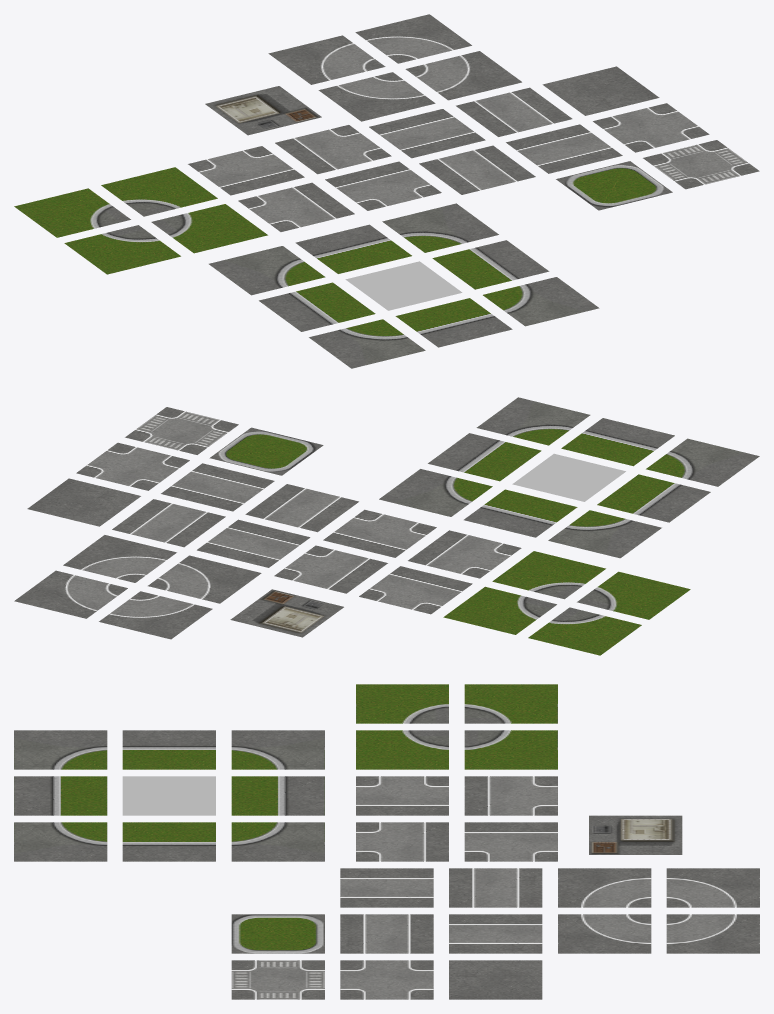
The model's file is CityRoads_Modular_PiecesFBX.fbx.
3 renders of one model, top to bottom at view 1: azimuth 30°, elevation 25°; view 2: azimuth 150°, elevation 25°; view 3: azimuth 270°, elevation 25°, orthographic. The views are drawn at different scales.
Parts seen in each view (by area): view 1: CityTilePiece2, CityTilePiece49, CityTilePiece50, CityTilePiece145, CityTilePiece147, CityTilePiece148, CityTilePiece14, CityTilePiece31, CityTilePiece48, CityTilePiece51, CityTilePiece52, CityTilePiece53 (+18 smaller); view 2: CityTilePiece19, CityTilePiece30, CityTilePiece148, CityTilePiece8, CityTilePiece9, CityTilePiece14, CityTilePiece31, CityTilePiece49, CityTilePiece53, CityTilePiece141, CityTilePiece147, CityTilePiece149 (+18 smaller); view 3: CityTilePiece2, CityTilePiece3, CityTilePiece5, CityTilePiece8, CityTilePiece9, CityTilePiece11, CityTilePiece12, CityTilePiece14, CityTilePiece17, CityTilePiece19, CityTilePiece30, CityTilePiece31 (+18 smaller).
Part boxes in pixels (x1,y1,x2,y2): CityTilePiece2: (432,240,549,289); CityTilePiece49: (395,298,512,347); CityTilePiece50: (295,224,411,273); CityTilePiece145: (419,145,535,194); CityTilePiece147: (325,161,441,210); CityTilePiece148: (238,182,354,231); CityTilePiece14: (275,125,391,174); CityTilePiece31: (556,161,672,210); CityTilePiece48: (345,261,462,310); CityTilePiece51: (259,282,375,331); CityTilePiece52: (209,246,325,295); CityTilePiece53: (309,319,425,368); CityTilePiece19: (148,555,261,603); CityTilePiece30: (476,397,590,445); CityTilePiece148: (408,530,521,578); CityTilePiece8: (99,591,212,639); CityTilePiece9: (14,570,127,618); CityTilePiece14: (274,545,387,593); CityTilePiece31: (209,427,323,475); CityTilePiece49: (561,418,674,466); CityTilePiece53: (646,438,759,486); CityTilePiece141: (230,589,343,637); CityTilePiece147: (323,509,436,557); CityTilePiece149: (359,566,472,614); CityTilePiece2: (122,822,215,861); CityTilePiece3: (231,960,324,999); CityTilePiece5: (231,822,324,861); CityTilePiece8: (666,868,759,907); CityTilePiece9: (666,914,759,953); CityTilePiece11: (340,960,433,999); CityTilePiece12: (449,914,542,953); CityTilePiece14: (464,822,557,861); CityTilePiece17: (558,914,651,953); CityTilePiece19: (558,868,651,907); CityTilePiece30: (14,822,107,861); CityTilePiece31: (231,914,324,953).
Size of the model in its own units: 24000 by 2e-12 by 24000.
